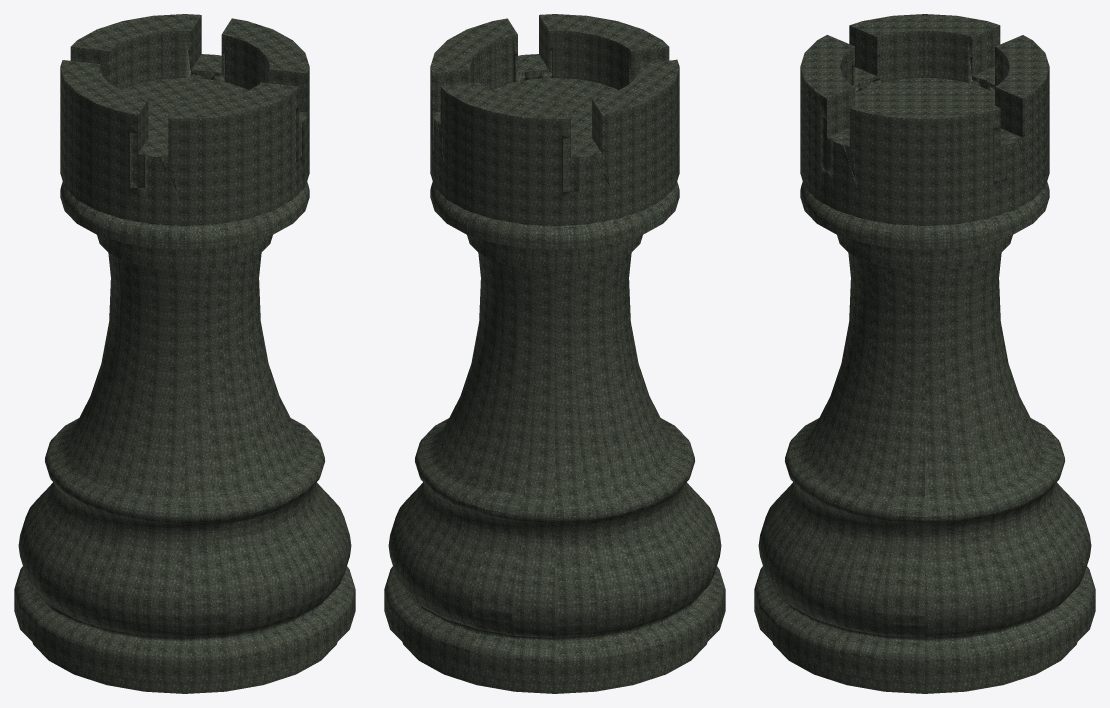
Rendered from black_rook.fbx.
3 views of the same model, side by side, from view 1: azimuth 30°, elevation 25°; view 2: azimuth 150°, elevation 25°; view 3: azimuth 270°, elevation 25° (orthographic).
Visible parts, largest first — view 1: Model; view 2: Model; view 3: Model.
Part boxes in pixels (bbox=[...]): Model: bbox=[14, 14, 355, 693]; Model: bbox=[384, 14, 725, 693]; Model: bbox=[754, 14, 1095, 693].
Bounding box in the file's own units: 21.75 × 39.41 × 21.75.
Materials: 1 (1 with a texture image).
